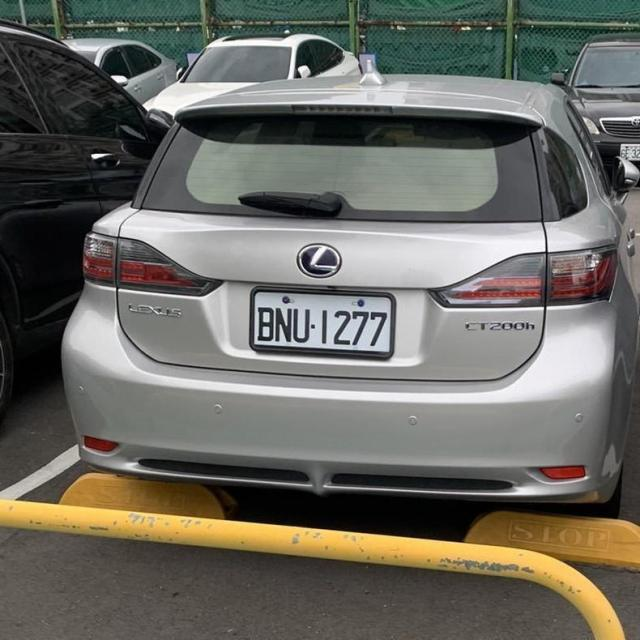W: (237, 276, 406, 365)
